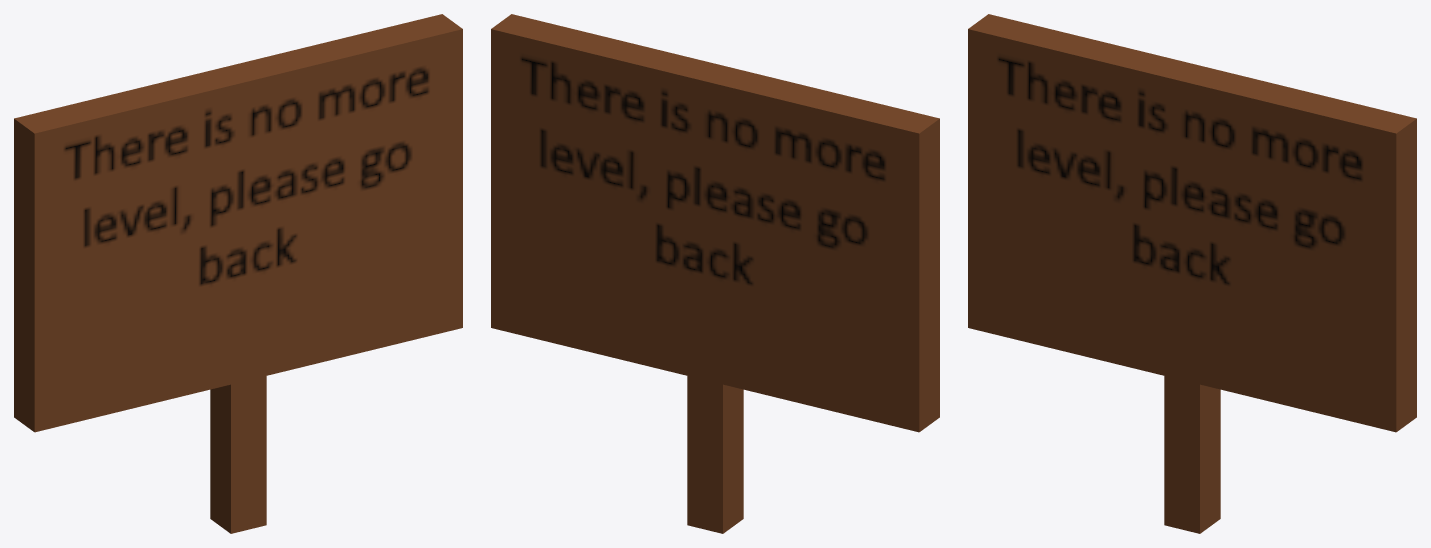
File: nomorelevel.fbx
3 renders of one model, left to right at view 1: azimuth 30°, elevation 25°; view 2: azimuth 150°, elevation 25°; view 3: azimuth 330°, elevation 25°, orthographic.
Parts seen in each view (by area): view 1: Cube; view 2: Cube; view 3: Cube.
Boxes of the visible parts, x1,y1,x2,y2 form: Cube: [14, 14, 462, 533]; Cube: [491, 14, 939, 533]; Cube: [968, 14, 1416, 533].
Size of the model in its own units: 300 by 300 by 25.
